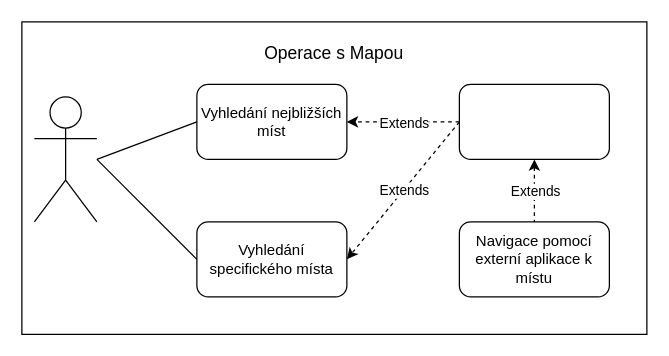
This 669x356 diagram has some shape labels left out. The shapes that lost their labels are listed below. From the top down, each one's centre as x and y in pixels, then its label:
At (533,121): "Zobrazení detailních informací daného místa".
At (65,159): "Uživatel".
